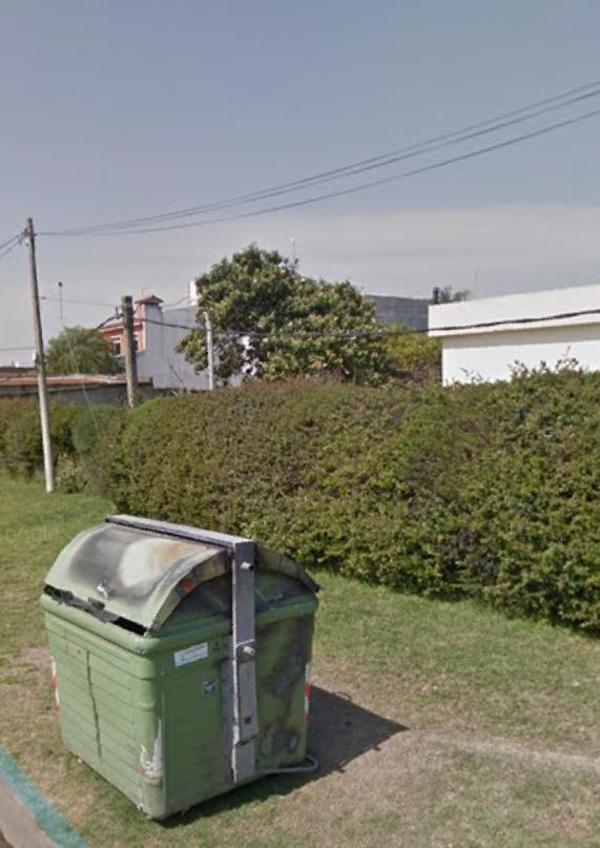Trash: (40, 515, 319, 820)
